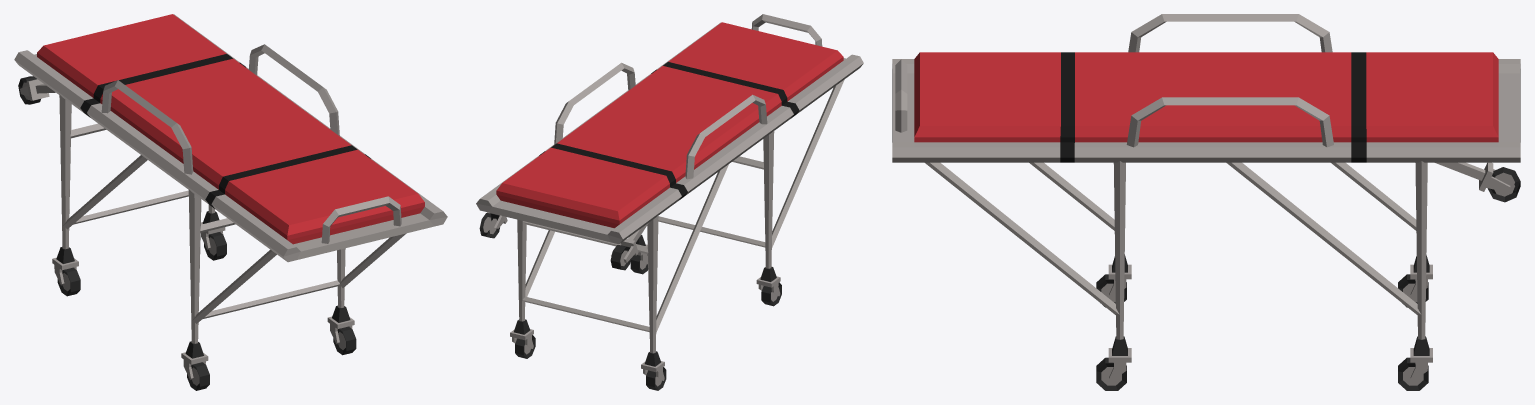
File: apocalypse_stretcher-loading-a.fbx
3 renders of one model, left to right at view 1: azimuth 30°, elevation 25°; view 2: azimuth 150°, elevation 25°; view 3: azimuth 270°, elevation 25°, orthographic. The views are drawn at different scales.
Visible parts, largest first — view 1: apocalypse_stretcher_loading_a; view 2: apocalypse_stretcher_loading_a; view 3: apocalypse_stretcher_loading_a.
Boxes of the visible parts, <box> form: apocalypse_stretcher_loading_a: <box>14,14,447,390</box>; apocalypse_stretcher_loading_a: <box>476,14,863,390</box>; apocalypse_stretcher_loading_a: <box>892,14,1520,390</box>.
Size of the model in its own units: 70.46 by 102 by 200.
